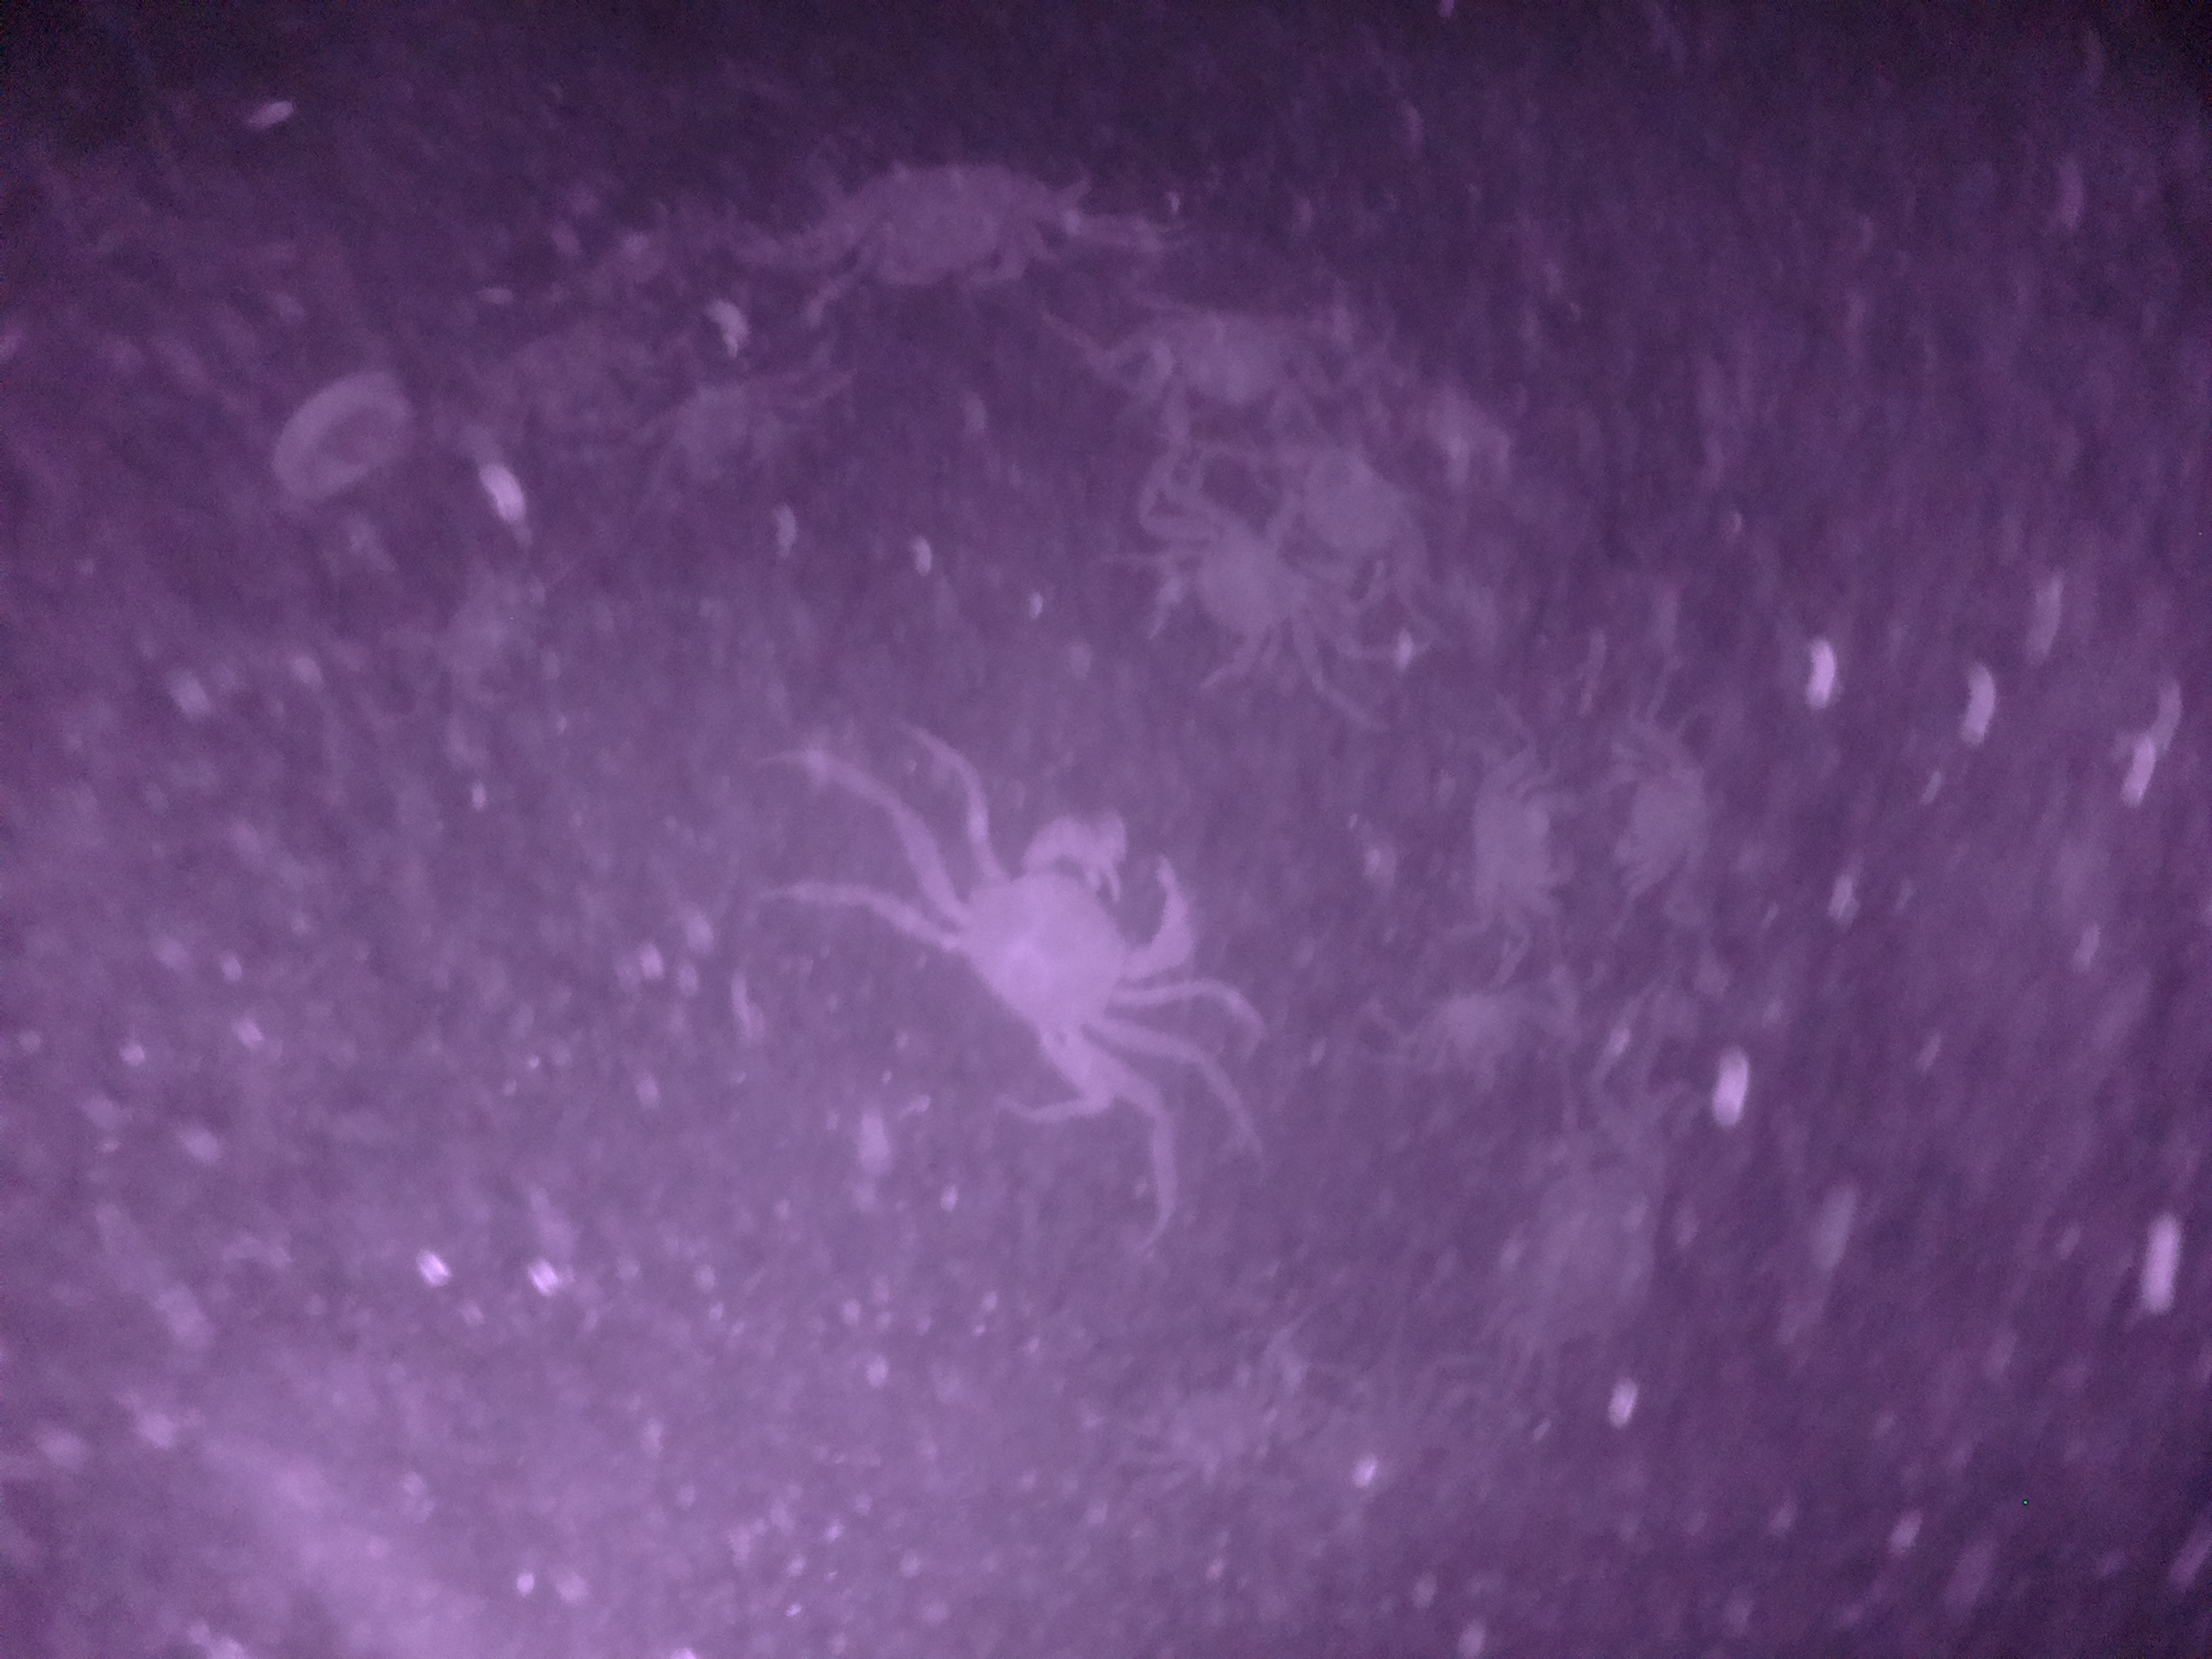Crab: (934, 802, 1221, 1096), (819, 148, 1069, 305), (1134, 495, 1313, 701), (1132, 281, 1341, 430), (1446, 762, 1580, 938), (1606, 713, 1726, 903)
